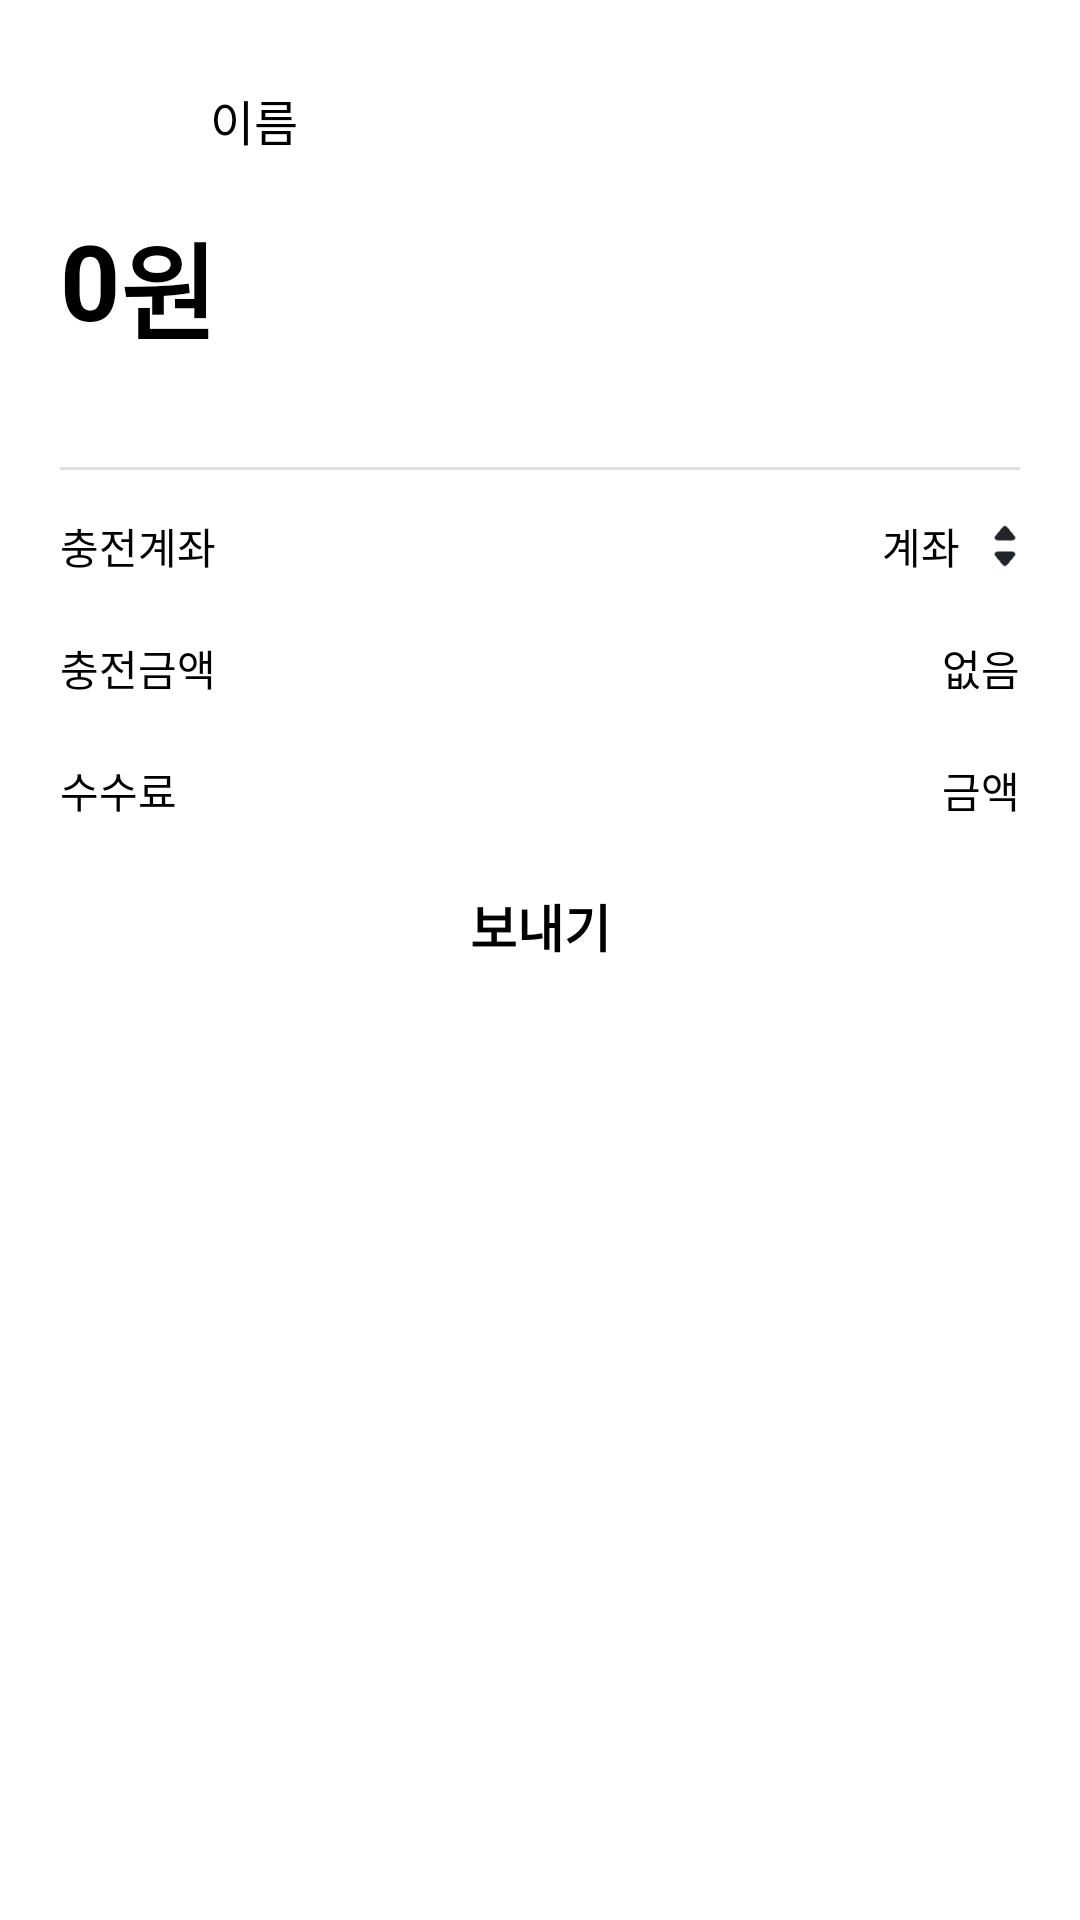

Point at icon controls on the screen. Image size 1080 × 1920, points as (x=x, y=y).
select: (x=1005, y=546)
